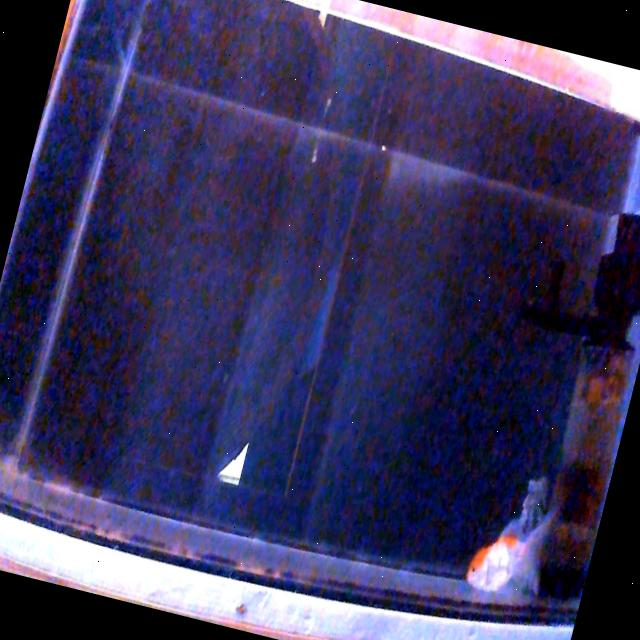fish: (463, 495, 559, 606)
